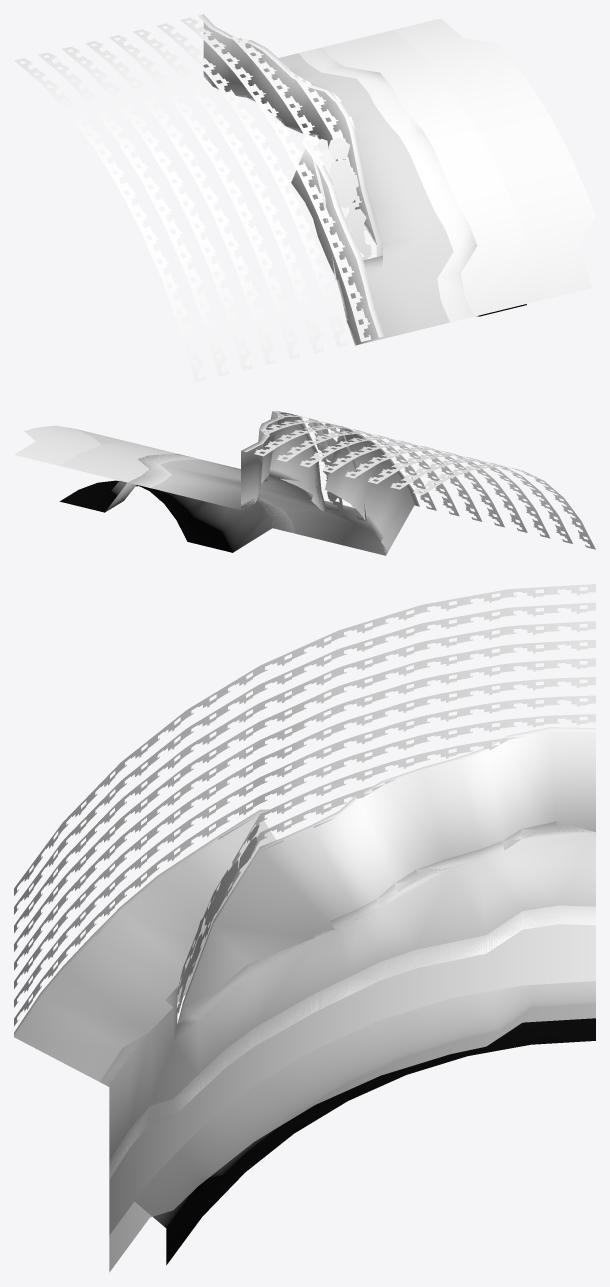
File: grd_Me_S_1.dae
The picture shows the model from 3 angles, top to bottom: view 1: azimuth 30°, elevation 25°; view 2: azimuth 150°, elevation 25°; view 3: azimuth 270°, elevation 25°; orthographic projection. The views are drawn at different scales.
Parts seen in each view (by area): view 1: grass_3_0, wave_6_0, ocean_4_0, beach_0_0, cliff_2_0, beach_1_0, slope_5_0; view 2: cliff_2_0, grass_3_0, beach_0_0, beach_1_0, wave_6_0, ocean_4_0, slope_5_0; view 3: cliff_2_0, beach_1_0, grass_3_0, beach_0_0, wave_6_0, ocean_4_0, slope_5_0.
Boxes of the visible parts, <box> form: grass_3_0: <box>14,17,382,382</box>; wave_6_0: <box>323,18,595,321</box>; ocean_4_0: <box>309,30,544,320</box>; beach_0_0: <box>203,53,453,345</box>; cliff_2_0: <box>198,14,384,345</box>; beach_1_0: <box>298,47,526,322</box>; slope_5_0: <box>317,137,371,257</box>; cliff_2_0: <box>241,411,419,554</box>; grass_3_0: <box>254,411,595,549</box>; beach_0_0: <box>150,459,388,555</box>; beach_1_0: <box>60,454,294,552</box>; wave_6_0: <box>14,425,293,533</box>; ocean_4_0: <box>60,442,292,531</box>; slope_5_0: <box>308,422,336,500</box>; cliff_2_0: <box>14,727,595,1085</box>; beach_1_0: <box>109,905,595,1265</box>; grass_3_0: <box>14,584,595,1026</box>; beach_0_0: <box>100,821,595,1160</box>; wave_6_0: <box>109,913,595,1272</box>; ocean_4_0: <box>109,906,595,1234</box>; slope_5_0: <box>178,824,259,1010</box>.
Bounding box in the file's own units: 608 × 308 × 423.
7 materials, 1 textured.
